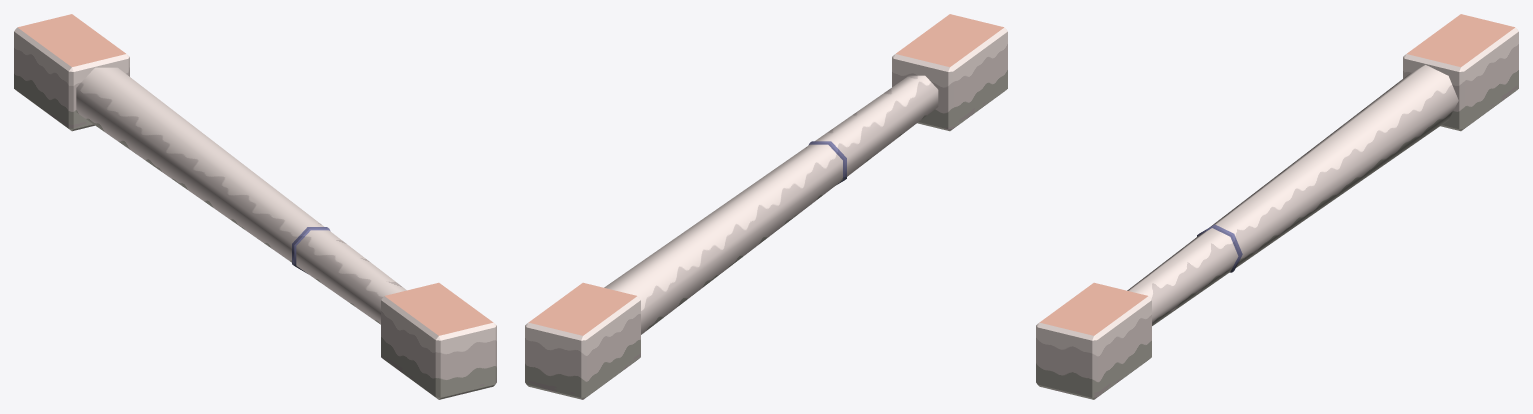
Rendered from R4C_ROD_LONG_LOD1.glb.
The picture shows the model from 3 angles, left to right: view 1: azimuth 30°, elevation 25°; view 2: azimuth 150°, elevation 25°; view 3: azimuth 330°, elevation 25°; orthographic projection.
Parts seen in each view (by area): view 1: R4C_ROD_LONG_LOD1; view 2: R4C_ROD_LONG_LOD1; view 3: R4C_ROD_LONG_LOD1.
Part boxes in pixels (x1,y1,x2,y2): R4C_ROD_LONG_LOD1: [14, 14, 496, 399]; R4C_ROD_LONG_LOD1: [525, 14, 1007, 399]; R4C_ROD_LONG_LOD1: [1036, 14, 1518, 399].
Size of the model in its own units: 0.226 by 0.226 by 2.72.
Materials: 3 (3 with a texture image).
